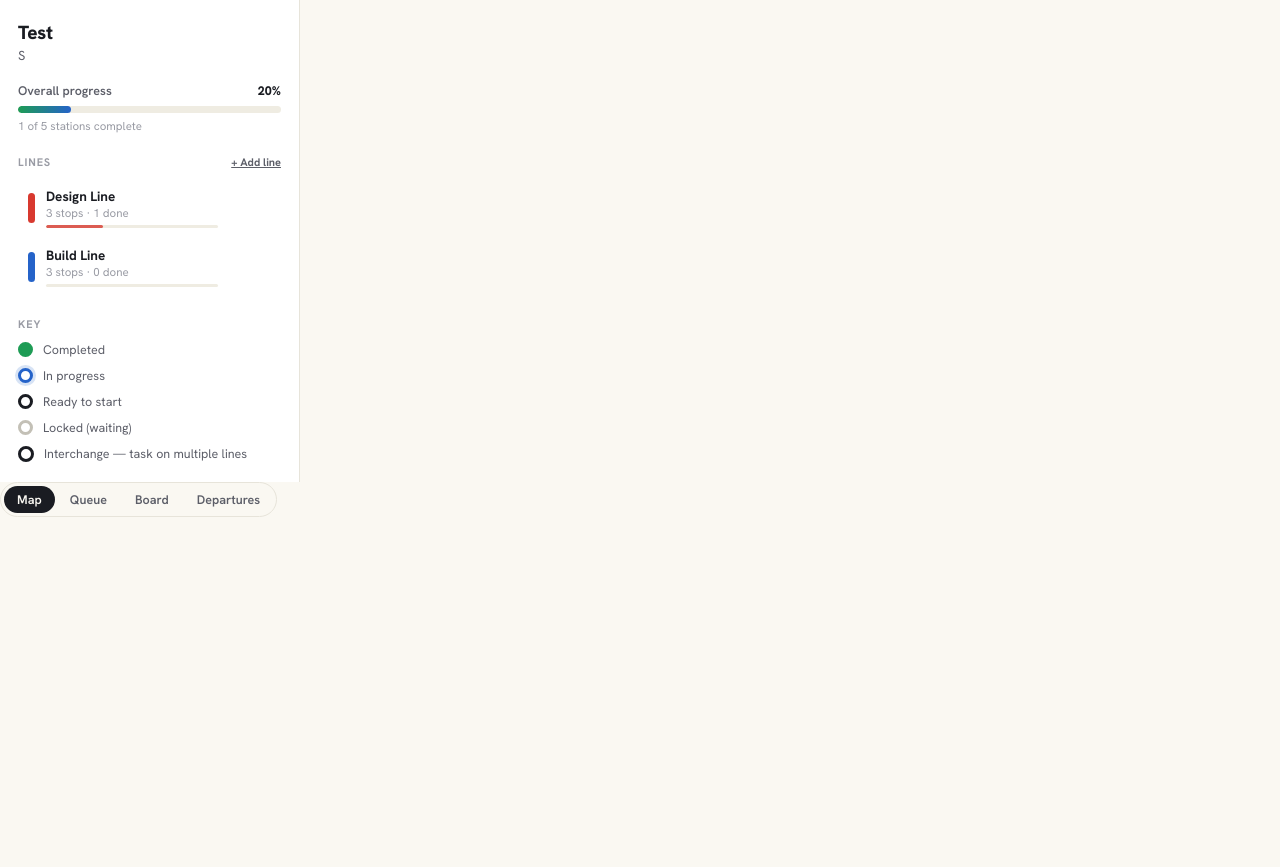
line filtering on the boards › Departures fades the stations off the selected line by default
expect the element with class "lines-list" is shown: met, box [18,179,228,295]
Step 1. Click the button "Departures" → (228, 500), box [184,486,273,513]
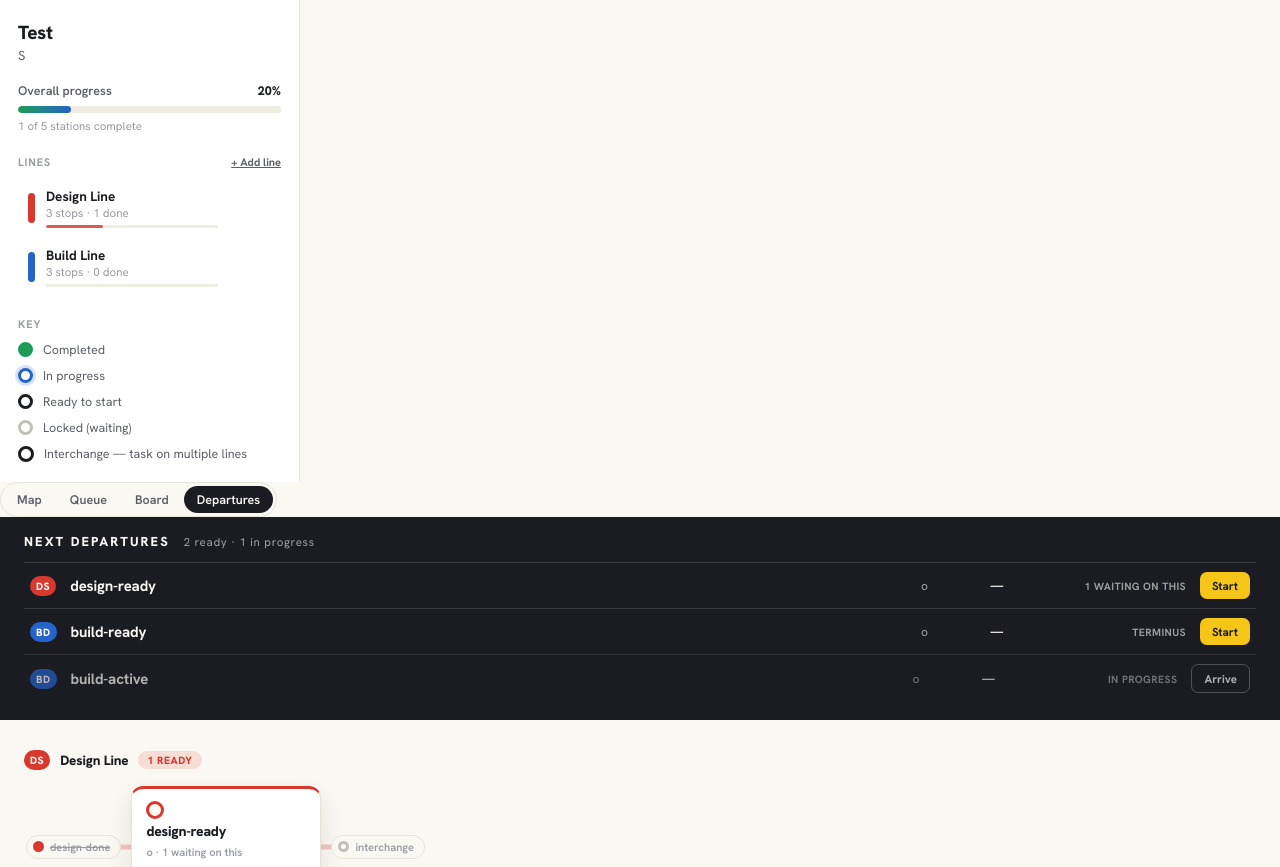
Step 2. Click the button with class "line-row-btn" showing "Design Line 3 stops · 1 done" → (123, 208), box [18,179,228,236]
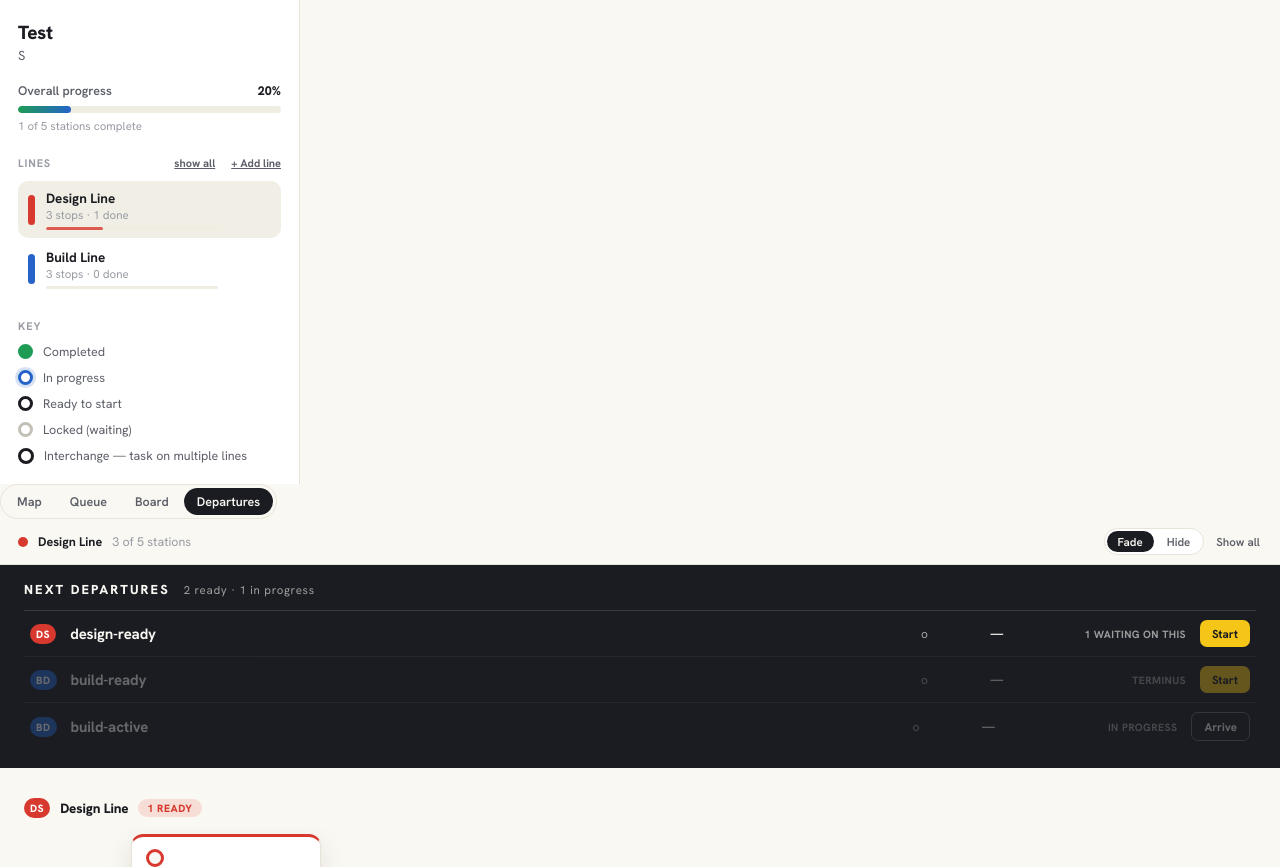
expect the element with class "filter-bar" is shown: met, box [0,519,1279,565]
